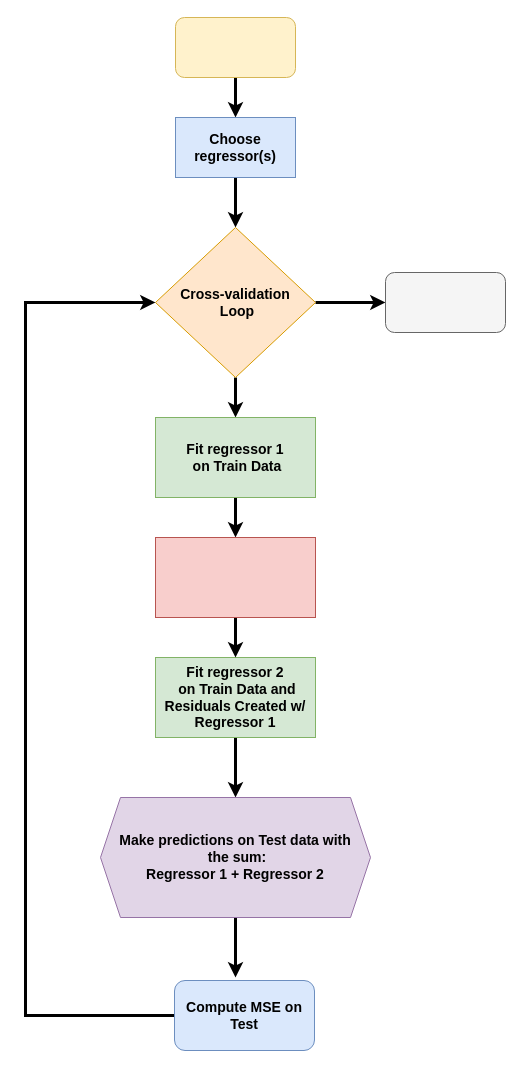
The diagram is 523 pixels wide and 1068 high, and some of its shapes have lost their labels. Here are the shapes that lost their labels. From the top down, the centre of each, then its label:
pixel 235 47: Import Data
pixel 445 302: Average MSE on Test Sets
pixel 235 577: Calculate Residuals on Train Data
